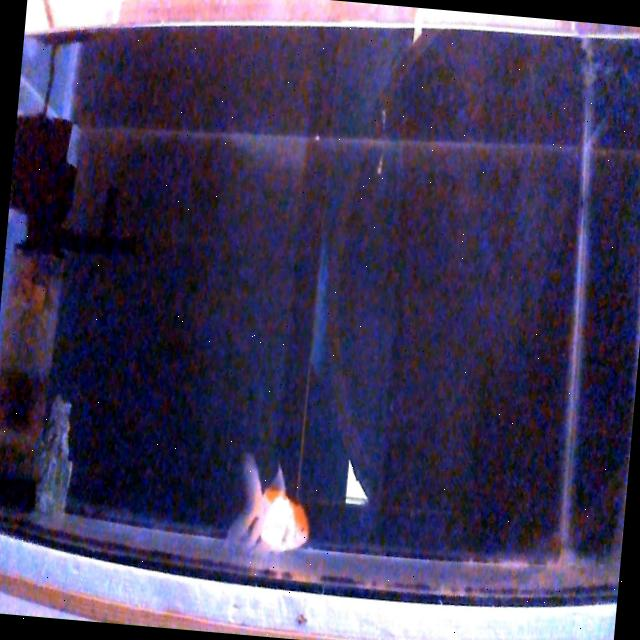fish: (225, 452, 316, 560)
